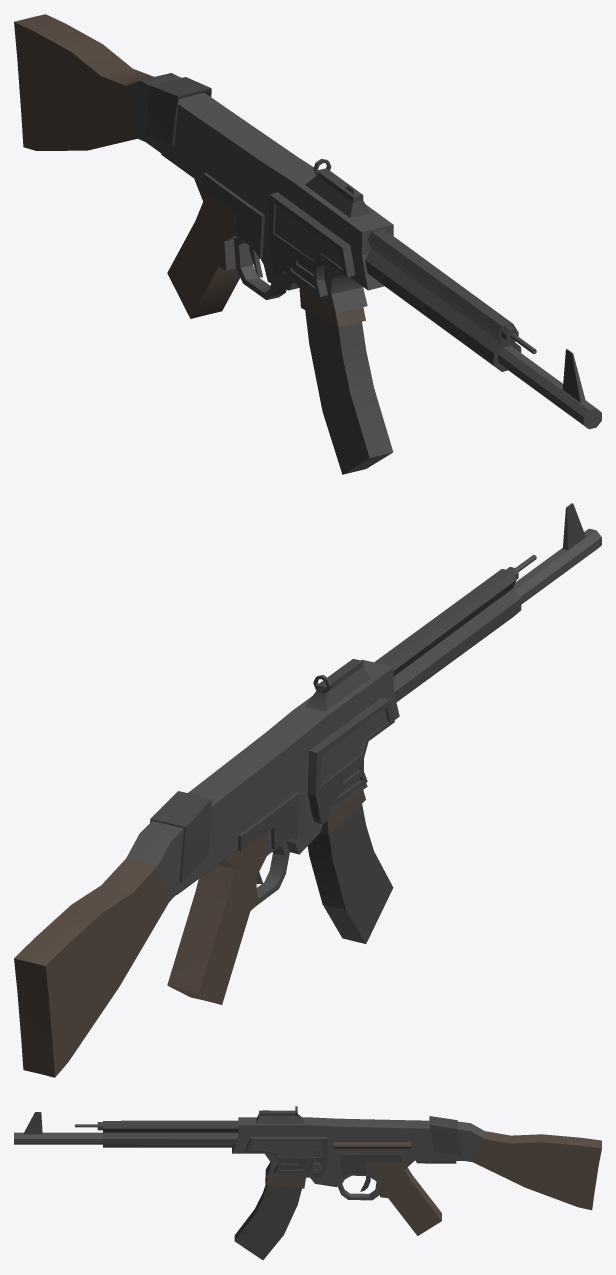
File: rifle.gltf
3 views of the same model, one above another, from view 1: azimuth 30°, elevation 25°; view 2: azimuth 150°, elevation 25°; view 3: azimuth 270°, elevation 25° (orthographic). The views are drawn at different scales.
Visible parts, largest first — view 1: Rifle; view 2: Rifle; view 3: Rifle.
Boxes of the visible parts, x1,y1,x2,y2 form: Rifle: (14, 14, 601, 474); Rifle: (14, 503, 601, 1077); Rifle: (14, 1106, 601, 1259).
Size of the model in its own units: 0.065 by 0.3493 by 1.23.
